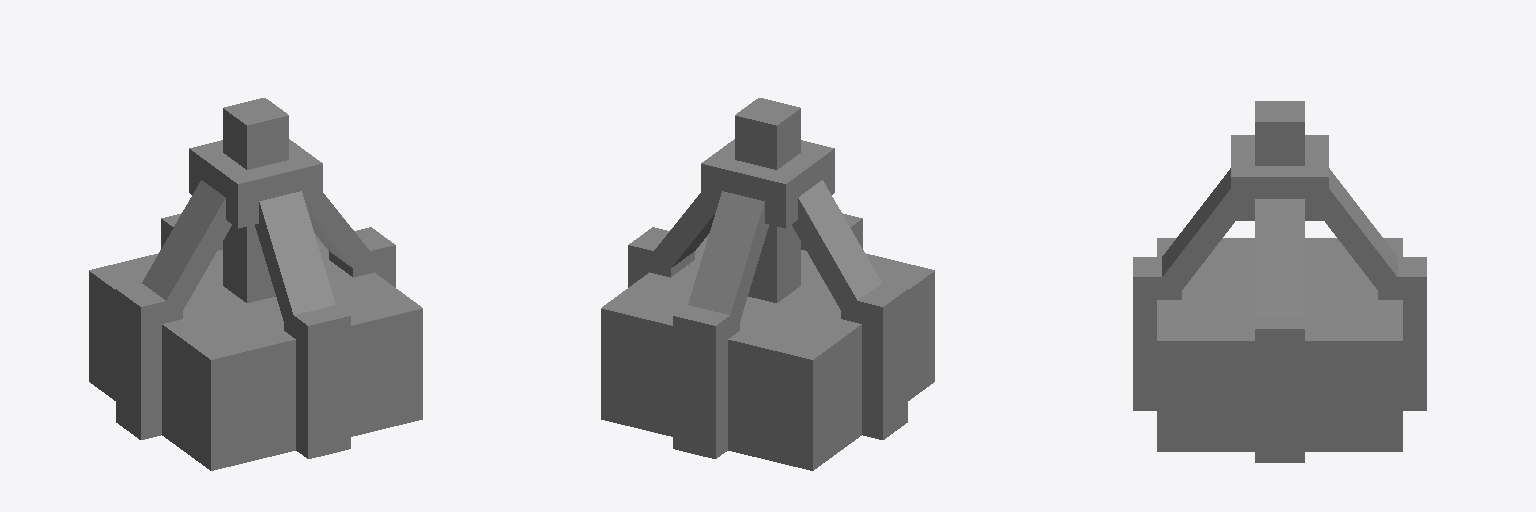
The model's file is missile_head_redmatter.obj.
The picture shows the model from 3 angles: view 1: azimuth 30°, elevation 25°; view 2: azimuth 150°, elevation 25°; view 3: azimuth 270°, elevation 25°; orthographic projection.
Parts seen in each view (by area): view 1: group_8, Component_76, Component_77, group_7, group_6; view 2: group_8, Component_76, Component_77, group_7, group_6; view 3: group_8, Component_76, Component_77, group_6, group_7.
Part boxes in pixels (left/top/right/bottom): group_8: left=89, top=234, right=422, bottom=470; Component_76: left=116, top=213, right=395, bottom=458; Component_77: left=142, top=180, right=382, bottom=341; group_7: left=223, top=98, right=288, bottom=302; group_6: left=189, top=139, right=322, bottom=228; group_8: left=601, top=234, right=934, bottom=470; Component_76: left=628, top=213, right=907, bottom=458; Component_77: left=640, top=180, right=881, bottom=343; group_7: left=735, top=98, right=800, bottom=302; group_6: left=701, top=139, right=834, bottom=228; group_8: left=1157, top=238, right=1402, bottom=451; Component_76: left=1133, top=257, right=1426, bottom=462; Component_77: left=1162, top=168, right=1397, bottom=316; group_6: left=1231, top=135, right=1328, bottom=220; group_7: left=1255, top=101, right=1304, bottom=165.
Bounding box in the file's own units: 75.59 × 81.89 × 75.59.